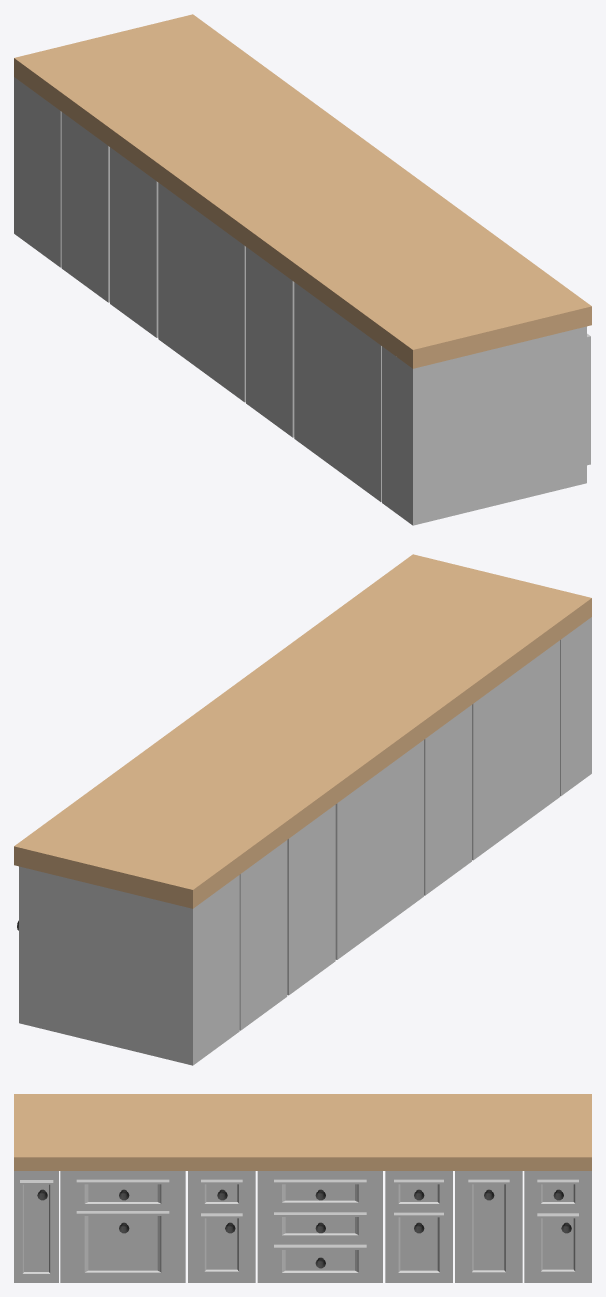
Rendered from Kitchen_Counter (1).fbx.
The picture shows the model from 3 angles, top to bottom: view 1: azimuth 30°, elevation 25°; view 2: azimuth 150°, elevation 25°; view 3: azimuth 270°, elevation 25°; orthographic projection. The views are drawn at different scales.
Parts seen in each view (by area): view 1: Counter; view 2: Counter; view 3: Counter.
Part boxes in pixels (box(x1,y1,x2,y2)): Counter: box(14, 14, 591, 525); Counter: box(14, 554, 591, 1065); Counter: box(14, 1094, 591, 1282).
Size of the model in its own units: 107 by 94.76 by 390.
